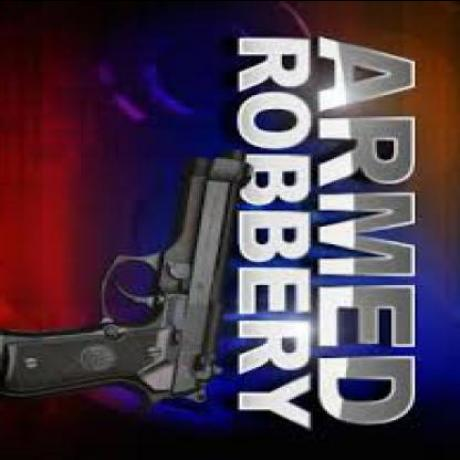weapon: (0, 135, 264, 418)
